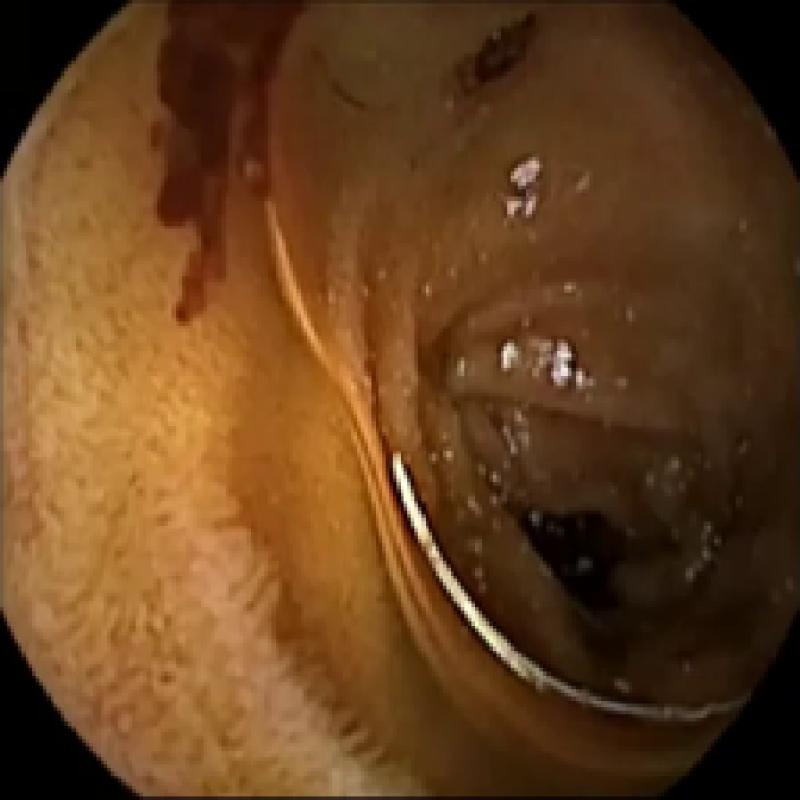bleeding: (146, 0, 293, 311), (460, 4, 540, 99)
